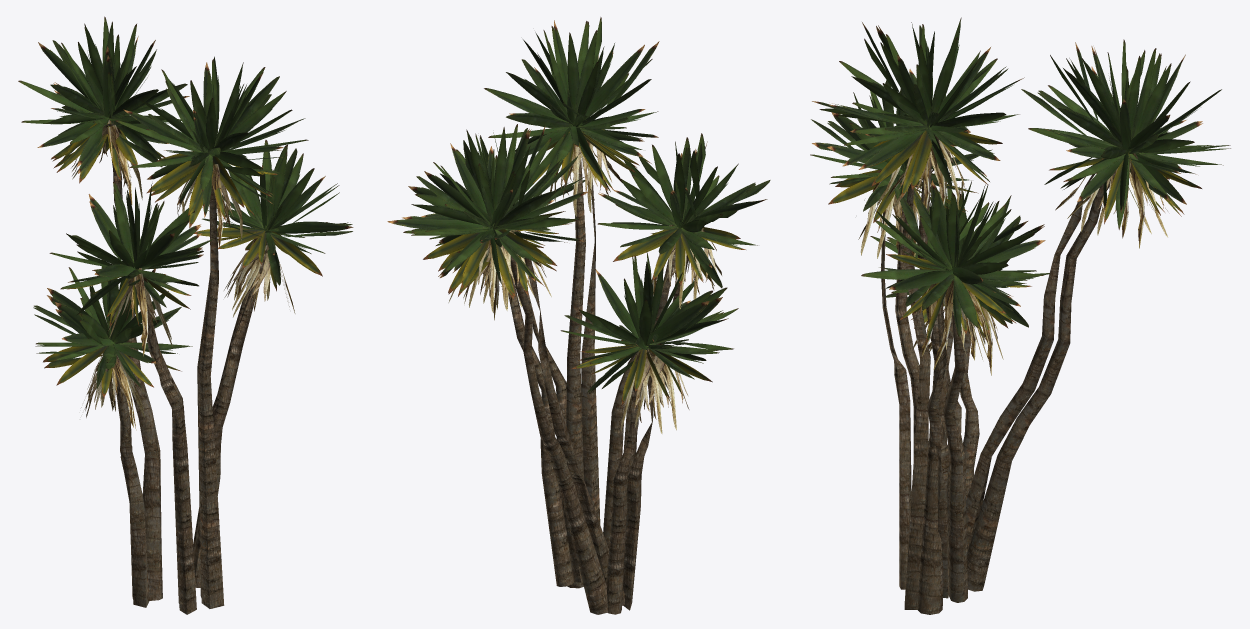
The model's file is MK4_Yucca3.DAE.
3 renders of one model, left to right at view 1: azimuth 30°, elevation 25°; view 2: azimuth 150°, elevation 25°; view 3: azimuth 270°, elevation 25°, orthographic. The views are drawn at different scales.
Visible parts, largest first — view 1: MK4_Yucca300, MK4_Yucca100, MK4_Yucca200; view 2: MK4_Yucca300, MK4_Yucca100, MK4_Yucca200; view 3: MK4_Yucca300, MK4_Yucca100, MK4_Yucca200.
Boxes of the visible parts, left/top/right/bottom form: MK4_Yucca300: left=18, top=16, right=353, bottom=603; MK4_Yucca100: left=34, top=52, right=352, bottom=614; MK4_Yucca200: left=33, top=44, right=352, bottom=414; MK4_Yucca300: left=388, top=20, right=767, bottom=614; MK4_Yucca100: left=402, top=17, right=770, bottom=610; MK4_Yucca200: left=387, top=21, right=755, bottom=510; MK4_Yucca300: left=810, top=17, right=1230, bottom=614; MK4_Yucca100: left=811, top=22, right=1213, bottom=609; MK4_Yucca200: left=827, top=25, right=1230, bottom=597.
Size of what is drawn, in the model's own units: 35.94 by 39.77 by 60.03.
